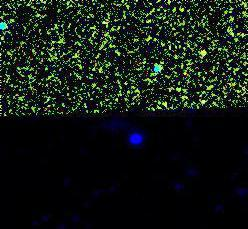star: (186, 37, 216, 67)
